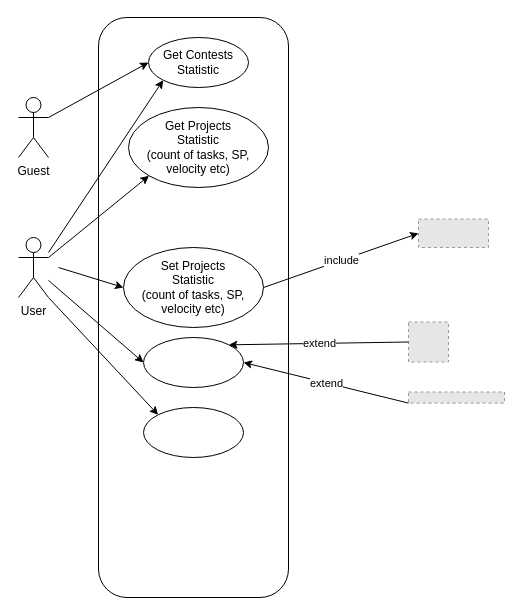
The diagram is 522 pixels wide and 615 high, and some of its shapes have lost their labels. Grey dashed boxes stand in for pictures. Each missing label, with the centre of its shape:
Manage Stats Presentation: point (193, 432)
Set Contests Statistic: point (193, 362)
